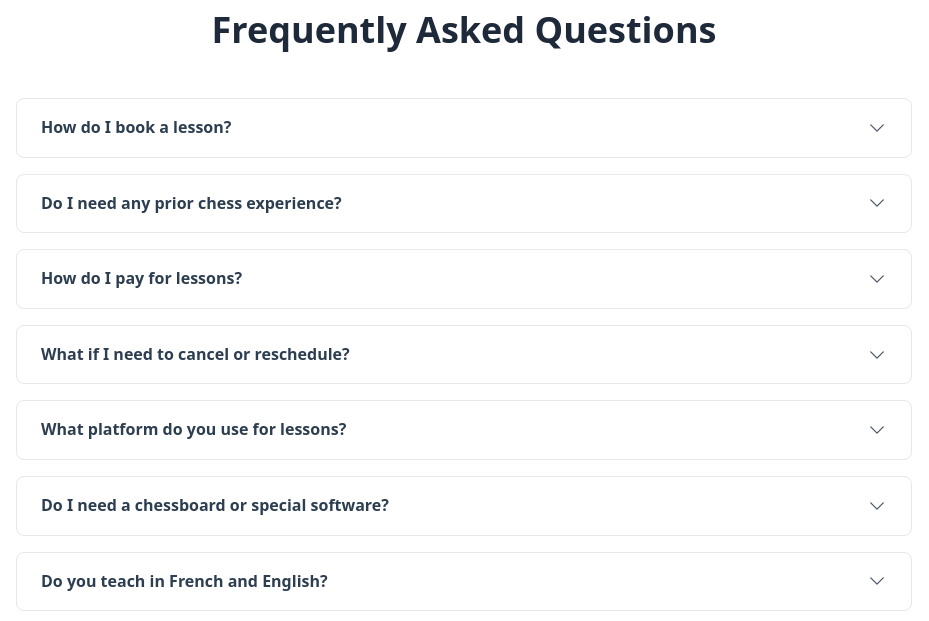
it: FAQ Component › collapses answer when question is clicked again
This screenshot has width=929, height=621.
Click the button "How do I book a lesson?".
click(136, 127)  # box [17,99,911,157]
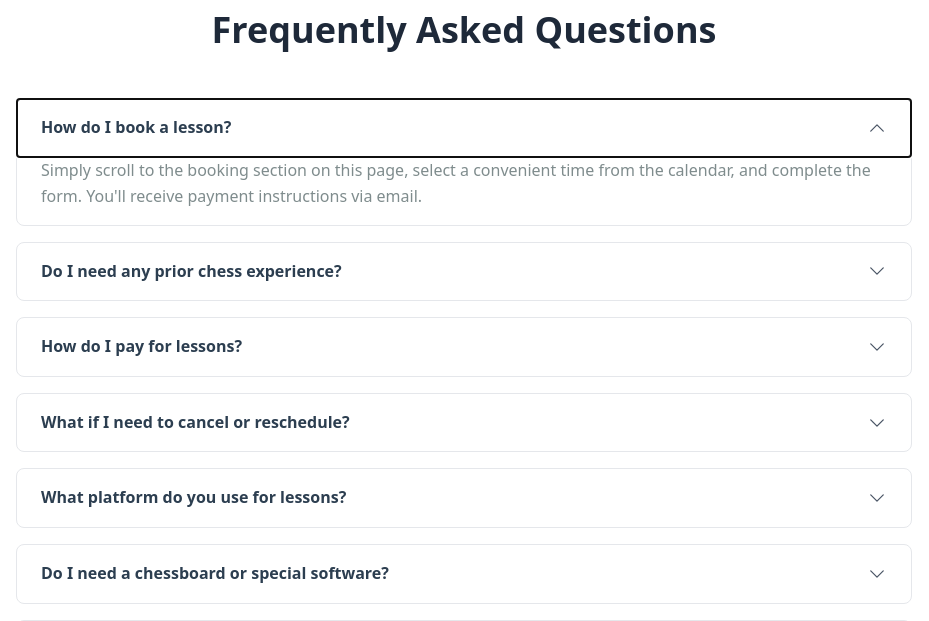
Result: the text "Simply scroll to the booking section" is shown at [41,159,871,207]
Click the button "How do I book a lesson?".
click(136, 127)  # box [17,99,911,157]
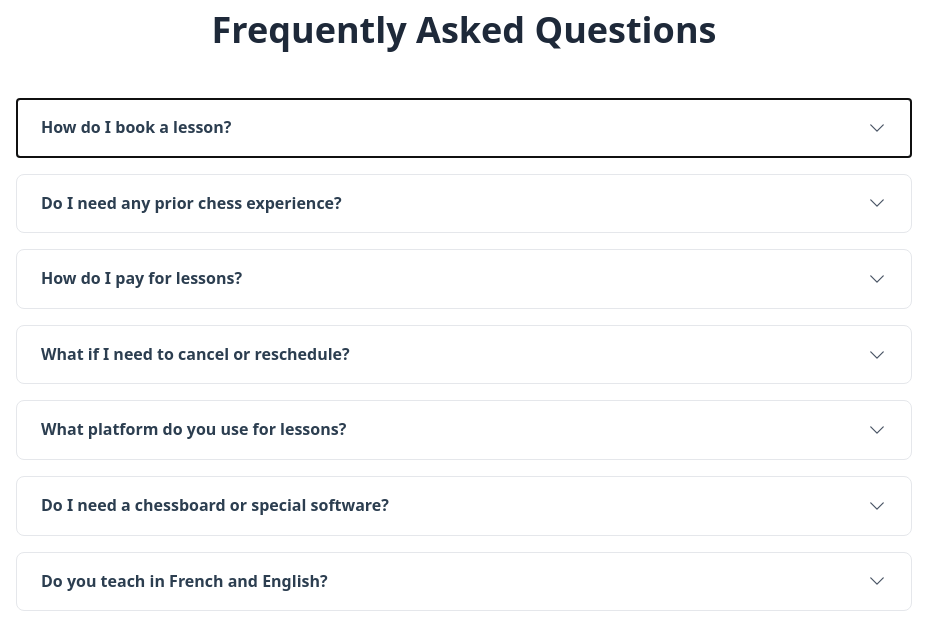
Result: the text "Simply scroll to the booking section" is gone
